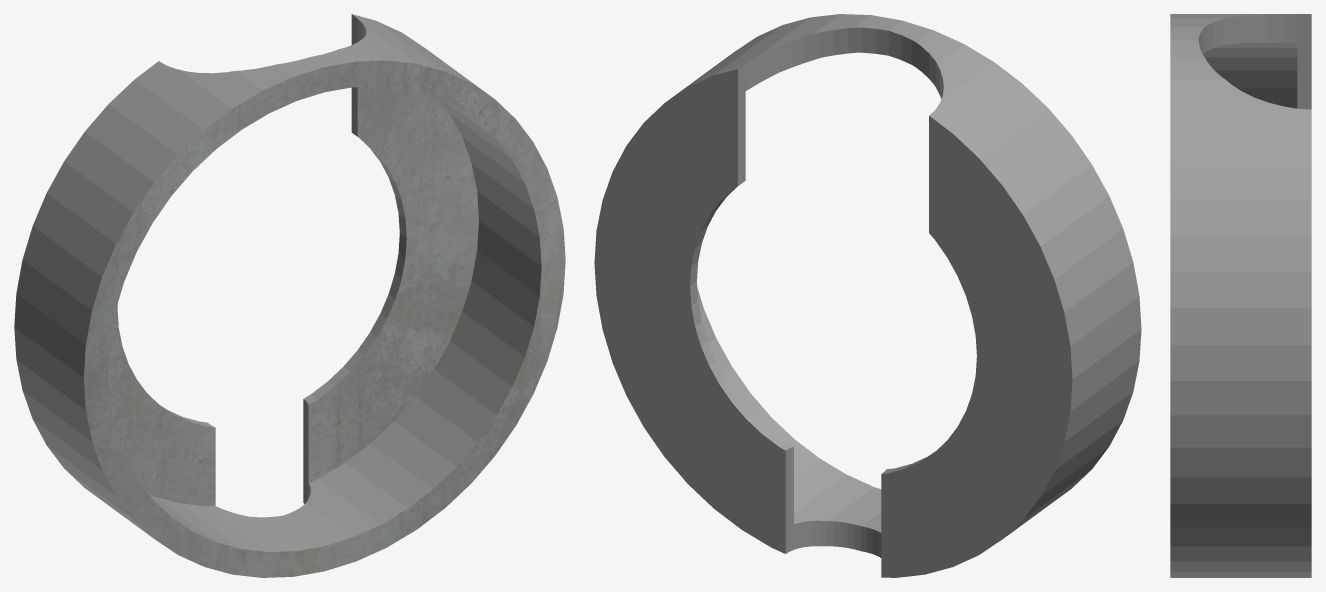
Rendered from pool_035.obj.
3 renders of one model, left to right at view 1: azimuth 30°, elevation 25°; view 2: azimuth 150°, elevation 25°; view 3: azimuth 270°, elevation 25°, orthographic. The views are drawn at different scales.
Bounding box in the file's own units: 20 × 20 × 5.
